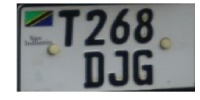T: (56, 8, 82, 48)
